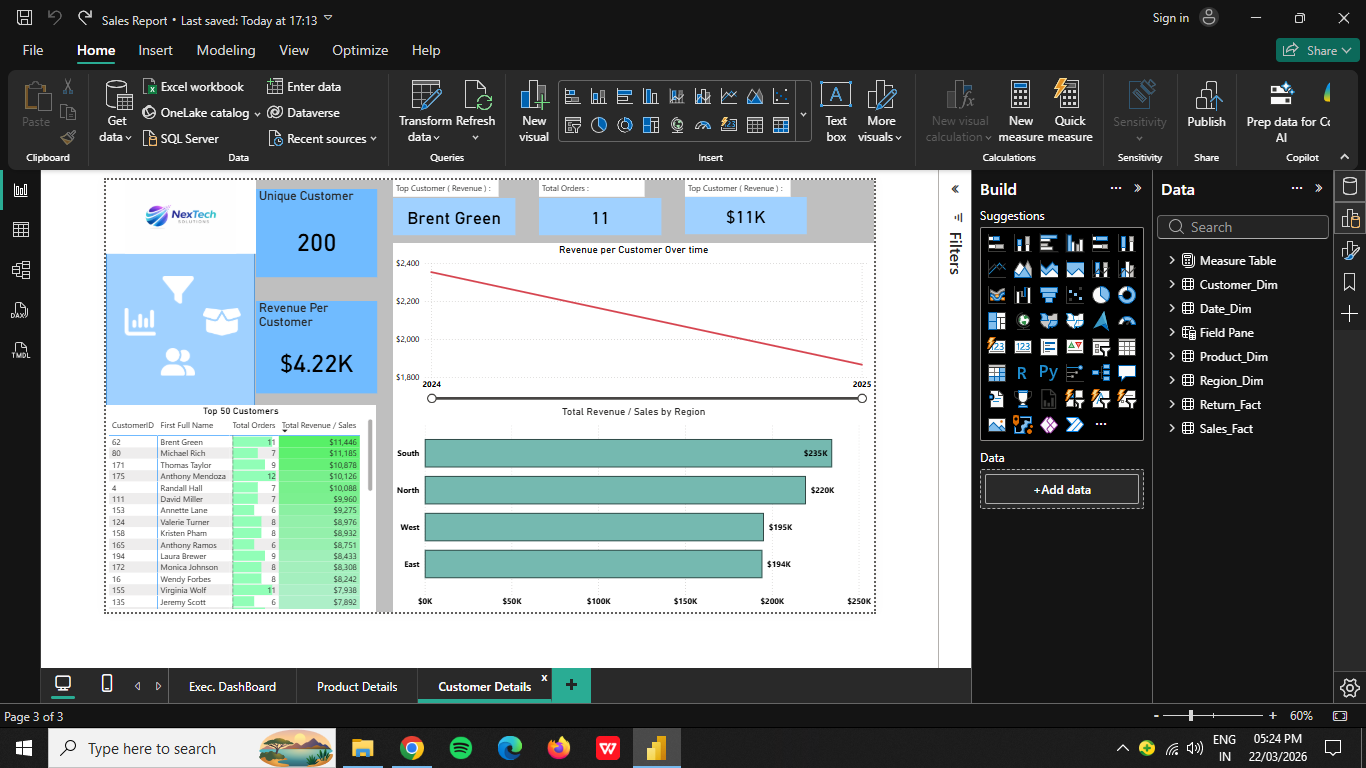

The page's visual inventory and layout, read from the dashboard file:
{"tool":"powerbi","page":{"name":"Customer Details","canvas":[1280,720],"ordinal":2},"visuals":[{"type":"card","title":"Unique Customer","fields":{"Values":["Measure Table.Unique Customer"]},"box":[250.3,14.3,202,146.6],"z":0},{"type":"shape","box":[0,0,248.3,376.2],"z":1},{"type":"image","box":[25,213.1,63.2,45.6],"z":2},{"type":"image","box":[161.6,213.1,63.2,45.6],"z":3},{"type":"image","box":[88.2,279.2,63.2,45.6],"z":5},{"type":"image","box":[88.2,160.2,63.2,45.6],"z":6},{"type":"image","box":[0,0,249.8,123.4],"z":7},{"type":"card","title":"Revenue Per Customer","fields":{"Values":["Measure Table.Revenue per Customer"]},"box":[250.3,202,202,153.7],"z":8},{"type":"pivotTable","title":"Top 50 Customers","fields":{"Rows":["Customer_Dim.CustomerID"],"Values":["Min(Customer_Dim.Full Name)","Measure Table.Total Orders","Measure Table.Total Revenue / Sales"]},"box":[0,374.7,449.6,345.3],"z":9},{"type":"textbox","box":[477.6,0,176.3,27.9],"z":10},{"type":"textbox","box":[721.5,0,176.3,27.9],"z":12},{"type":"card","fields":{"Values":["Min(Customer_Dim.Full Name)"]},"box":[477.6,29.4,204.2,61.7],"z":13},{"type":"card","fields":{"Values":["Measure Table.Total Orders"]},"box":[721.5,29.4,204.2,61.7],"z":14},{"type":"card","fields":{"Values":["Measure Table.Total Revenue / Sales"]},"box":[965.4,27.9,202.8,61.7],"z":15},{"type":"textbox","box":[965.4,0,176.3,27.9],"z":16},{"type":"lineChart","title":"Revenue per Customer Over time ","fields":{"Category":["Date_Dim.Year Hierarchy.Year","Date_Dim.Year Hierarchy.Quarter","Date_Dim.Year Hierarchy.Start of Month","Date_Dim.Year Hierarchy.Start of Week","Date_Dim.Year Hierarchy.Date"],"Y":["Measure Table.Revenue per Customer"]},"box":[477.6,104.3,802.3,270.4],"z":17},{"type":"barChart","fields":{"Category":["Customer_Dim.Region"],"Y":["Measure Table.Total Revenue / Sales"]},"box":[477.6,374.7,802.3,345.3],"z":18}]}

Visuals, with their boxes on the page's 1280x720 design canvas (x1, y1, x2, y2). These are canvas units, not pixel positions in the 1366x768 screenshot, which may show the page scaled, cropped or inside an application window:
"Unique Customer" card: {"x1": 250, "y1": 14, "x2": 452, "y2": 161}
shape: {"x1": 0, "y1": 0, "x2": 248, "y2": 376}
image: {"x1": 25, "y1": 213, "x2": 88, "y2": 259}
image: {"x1": 162, "y1": 213, "x2": 225, "y2": 259}
image: {"x1": 88, "y1": 279, "x2": 151, "y2": 325}
image: {"x1": 88, "y1": 160, "x2": 151, "y2": 206}
image: {"x1": 0, "y1": 0, "x2": 250, "y2": 123}
"Revenue Per Customer" card: {"x1": 250, "y1": 202, "x2": 452, "y2": 356}
"Top 50 Customers" pivotTable: {"x1": 0, "y1": 375, "x2": 450, "y2": 720}
textbox: {"x1": 478, "y1": 0, "x2": 654, "y2": 28}
textbox: {"x1": 722, "y1": 0, "x2": 898, "y2": 28}
card - Min(Customer_Dim.Full Name): {"x1": 478, "y1": 29, "x2": 682, "y2": 91}
card - Measure Table.Total Orders: {"x1": 722, "y1": 29, "x2": 926, "y2": 91}
card - Measure Table.Total Revenue / Sales: {"x1": 965, "y1": 28, "x2": 1168, "y2": 90}
textbox: {"x1": 965, "y1": 0, "x2": 1142, "y2": 28}
"Revenue per Customer Over time " lineChart: {"x1": 478, "y1": 104, "x2": 1280, "y2": 375}
barChart - Customer_Dim.Region x Measure Table.Total Revenue / Sales: {"x1": 478, "y1": 375, "x2": 1280, "y2": 720}
